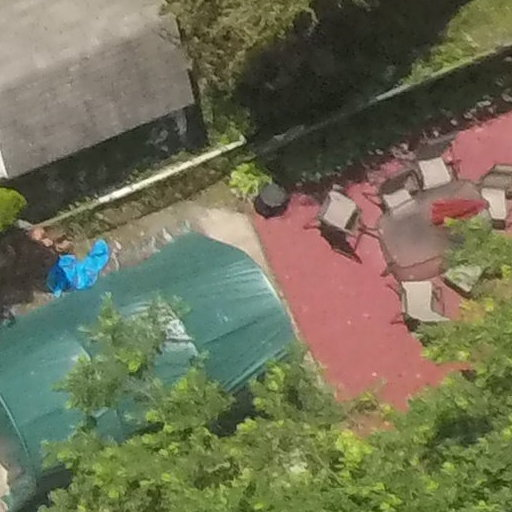chair: (385, 274, 459, 335), (307, 179, 364, 244), (410, 134, 461, 193)
table: (367, 173, 508, 283), (251, 167, 291, 221)
